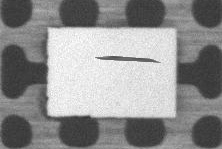DIE_INK: (96, 55, 158, 64)
